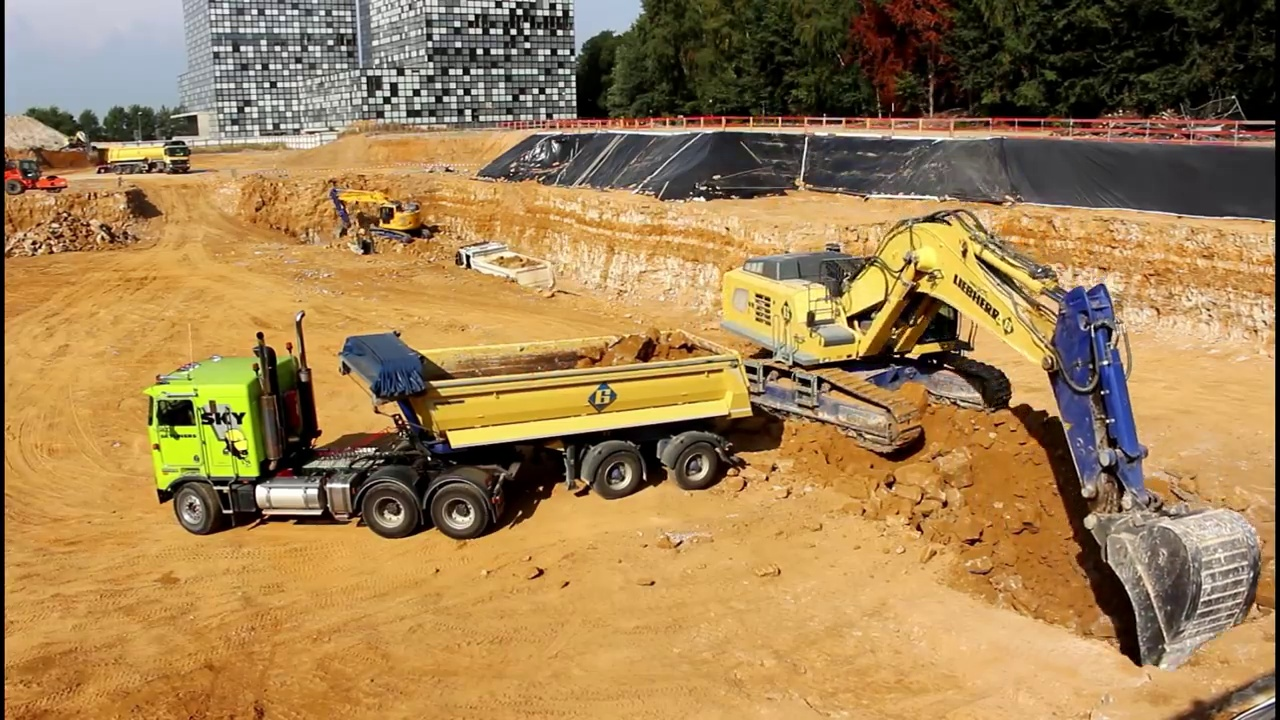compactor: (4, 154, 76, 200)
excavator: (708, 205, 1270, 676), (319, 179, 443, 257), (64, 121, 102, 164)
truck: (142, 306, 759, 543), (454, 231, 560, 313), (99, 133, 195, 179)
